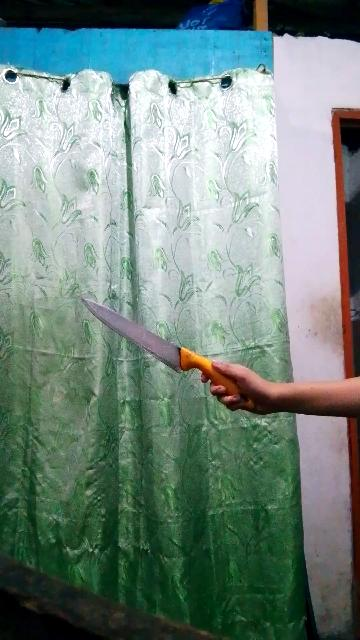long knife: (75, 281, 269, 415)
